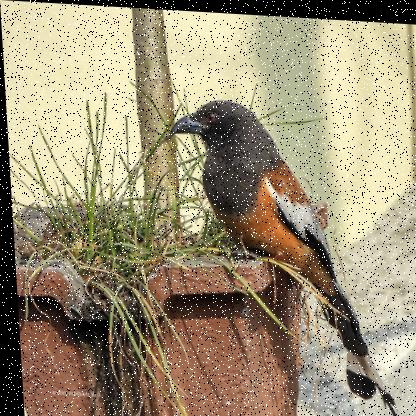Burung: (166, 94, 395, 415)
